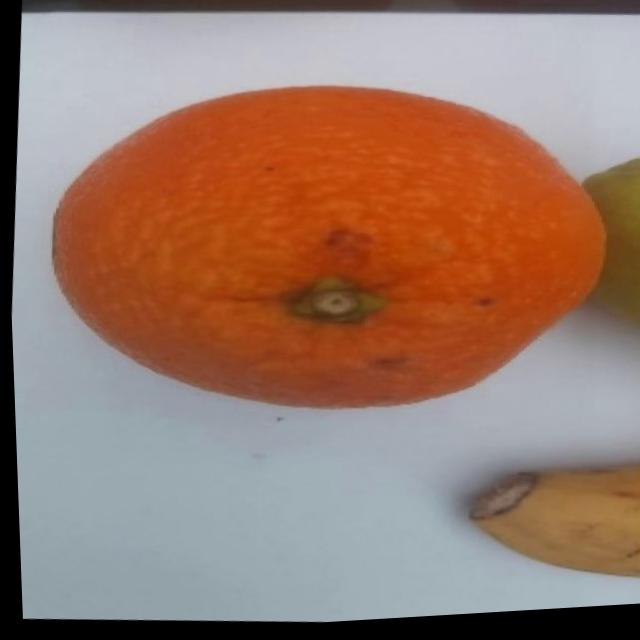Banana: (458, 459, 640, 596)
Orange: (34, 58, 621, 448)
